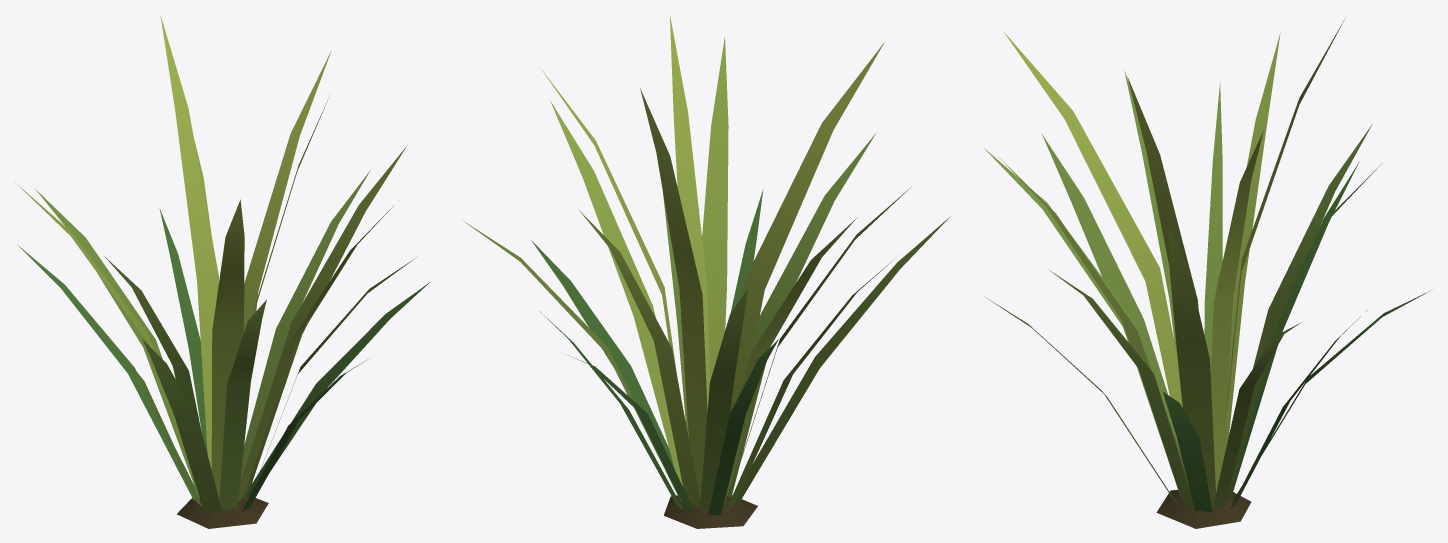
The model's file is grass_tuft_2.glb.
3 renders of one model, left to right at view 1: azimuth 30°, elevation 25°; view 2: azimuth 150°, elevation 25°; view 3: azimuth 270°, elevation 25°, orthographic. The views are drawn at different scales.
Parts seen in each view (by area): view 1: grass_tuft_2; view 2: grass_tuft_2; view 3: grass_tuft_2.
Boxes of the visible parts, box(x1,y1,x2,y2) form: grass_tuft_2: box(15, 15, 429, 528); grass_tuft_2: box(463, 16, 950, 528); grass_tuft_2: box(984, 17, 1431, 528).
Bounding box in the file's own units: 0.8 × 0.9 × 0.75.
Materials: 2 (2 with a texture image).
